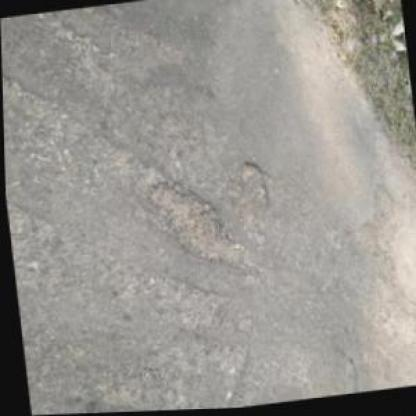pothole: (147, 173, 245, 280), (93, 363, 162, 412), (232, 158, 269, 214)
